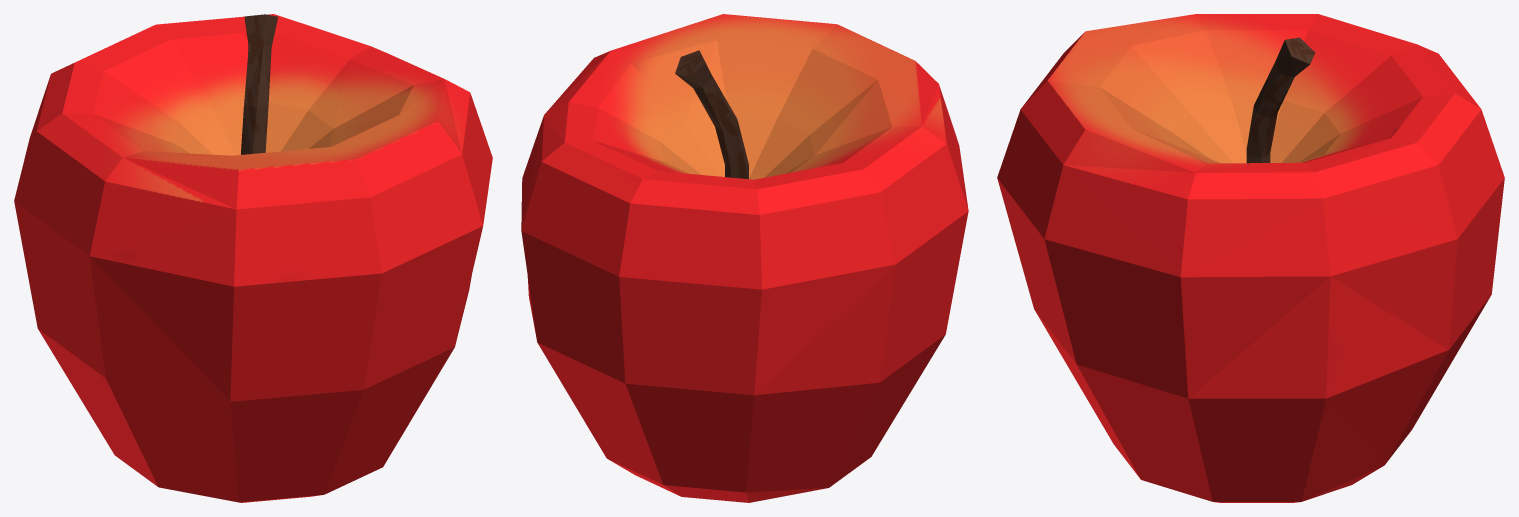
File: apple.dae
3 renders of one model, left to right at view 1: azimuth 30°, elevation 25°; view 2: azimuth 150°, elevation 25°; view 3: azimuth 270°, elevation 25°, orthographic. The views are drawn at different scales.
Visible parts, largest first — view 1: Cylinder; view 2: Cylinder; view 3: Cylinder.
Part boxes in pixels (bbox=[...]): Cylinder: bbox=[14, 14, 492, 502]; Cylinder: bbox=[521, 14, 968, 502]; Cylinder: bbox=[997, 14, 1504, 502].
Size of the model in its own units: 0.716 by 0.7718 by 0.7192.
